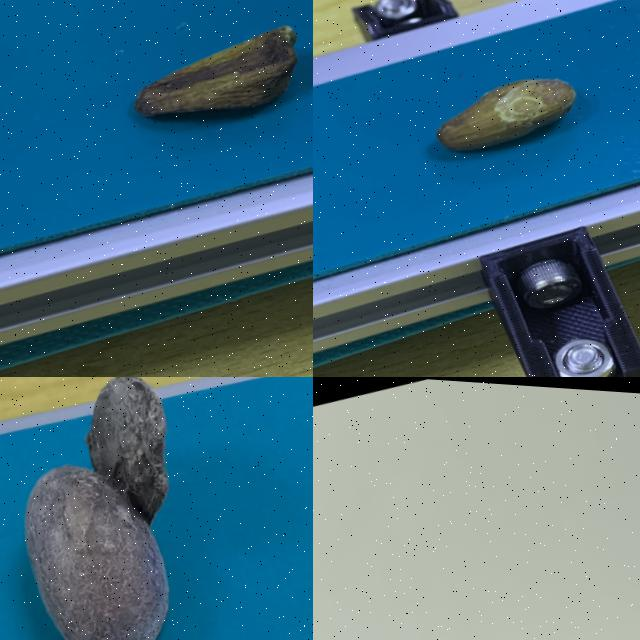Agglomerated_cocoabeans: (0, 377, 312, 639), (313, 586, 639, 639)
Fine_cocoabeans: (333, 0, 639, 253)
Flat_cocoabeans: (88, 0, 312, 185)
